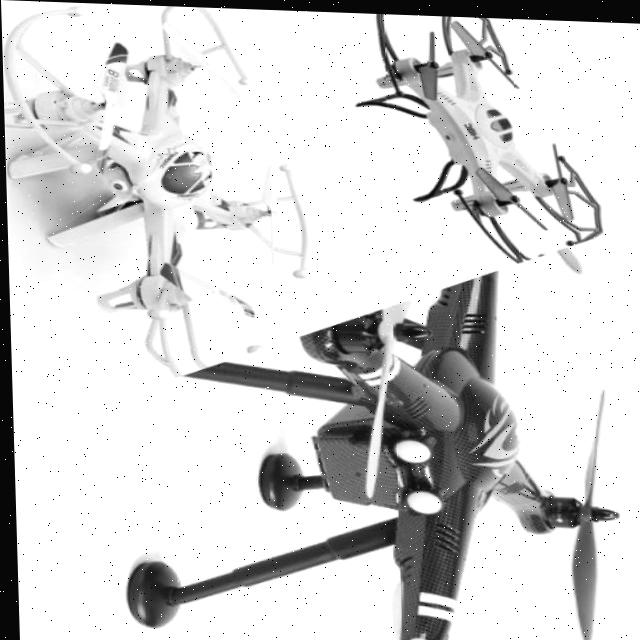drone: (195, 235, 613, 640), (2, 0, 318, 358), (360, 14, 622, 274)
